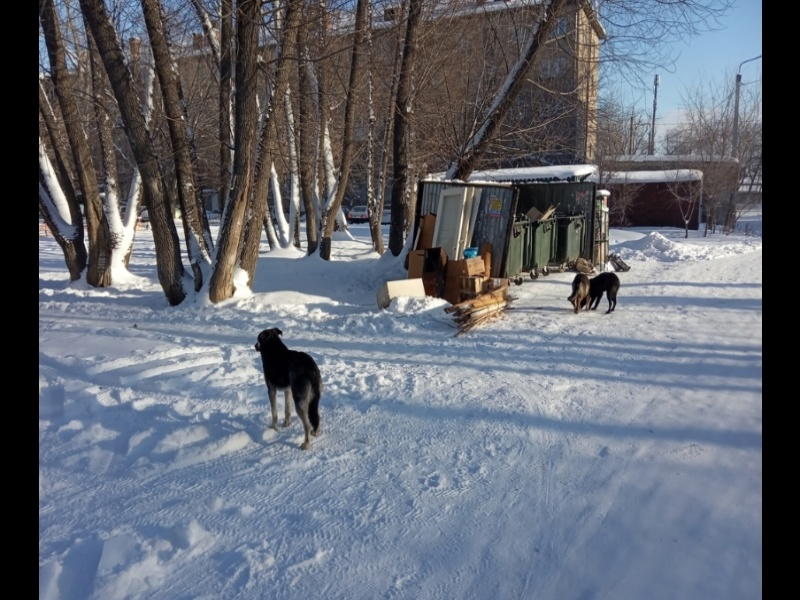dog: (250, 324, 328, 458), (574, 266, 621, 316), (565, 272, 590, 311)
